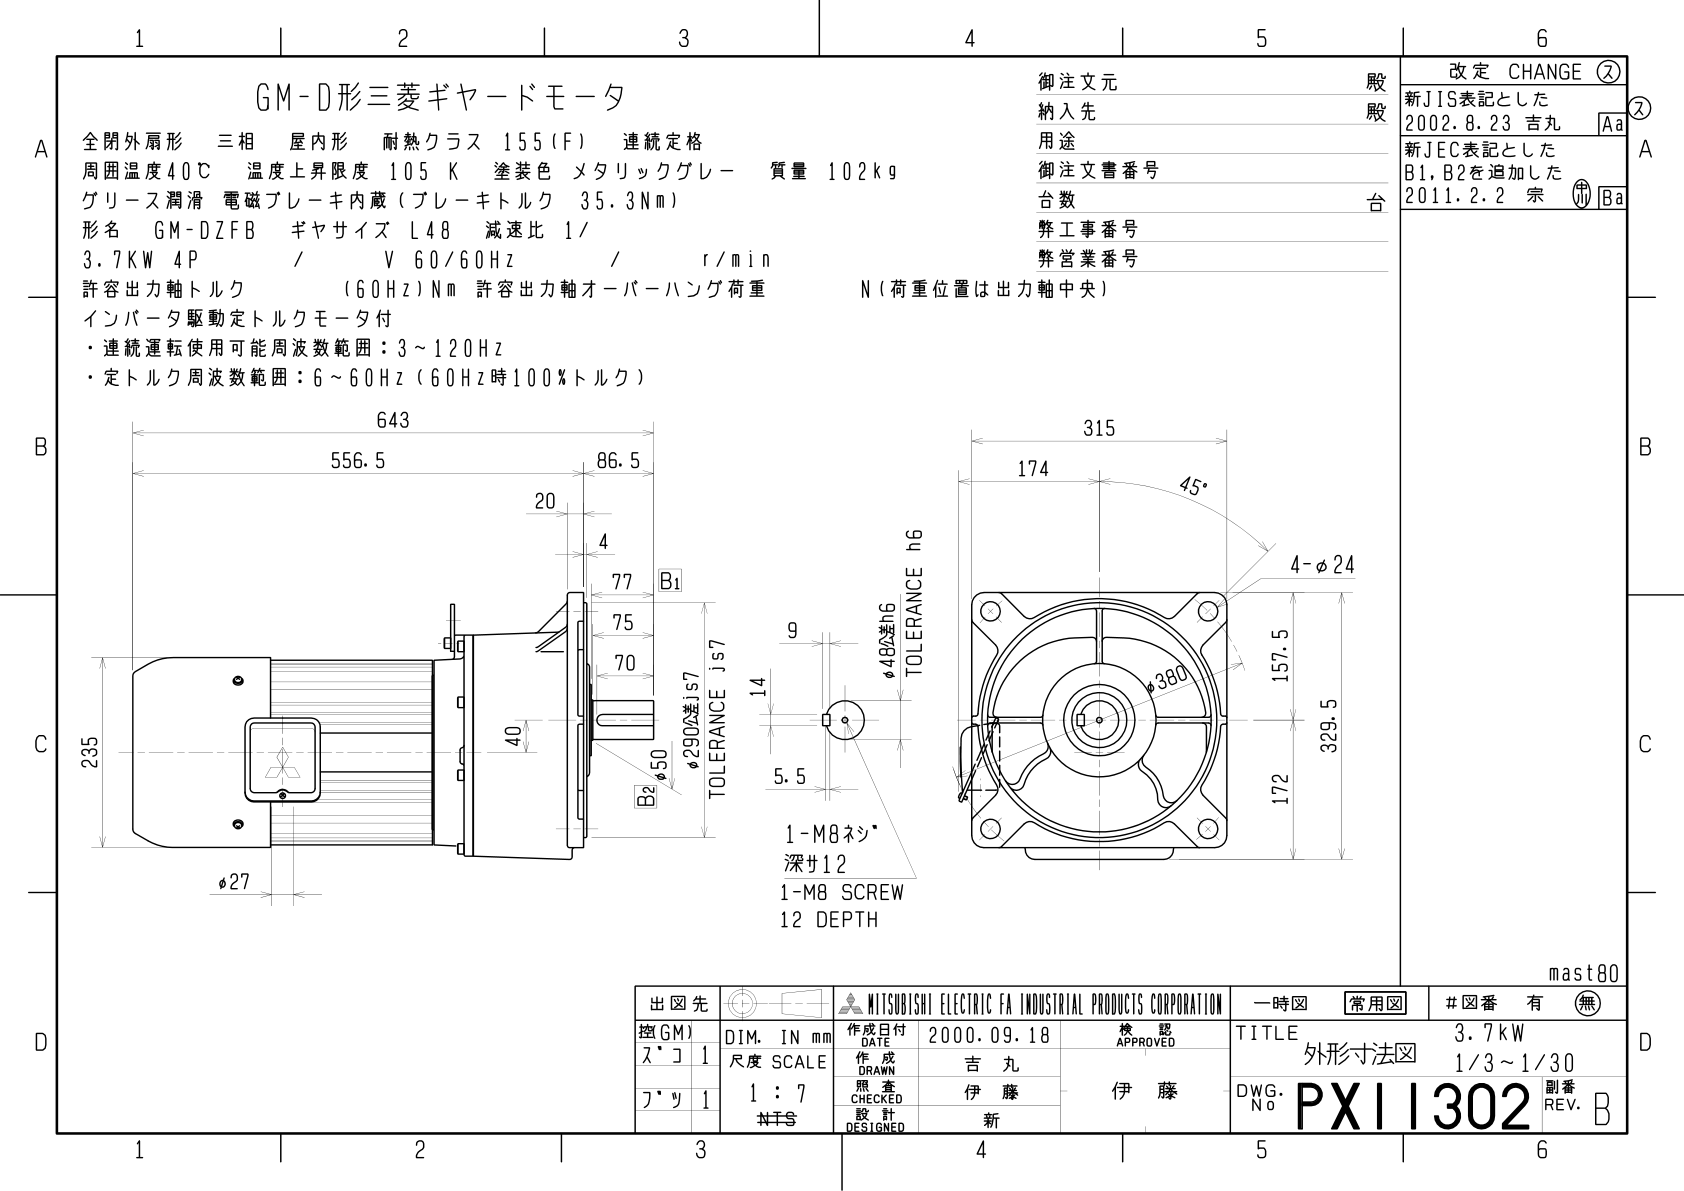GM_D_インバータ屋内_三相_フランジ: (70, 403, 1377, 941)
